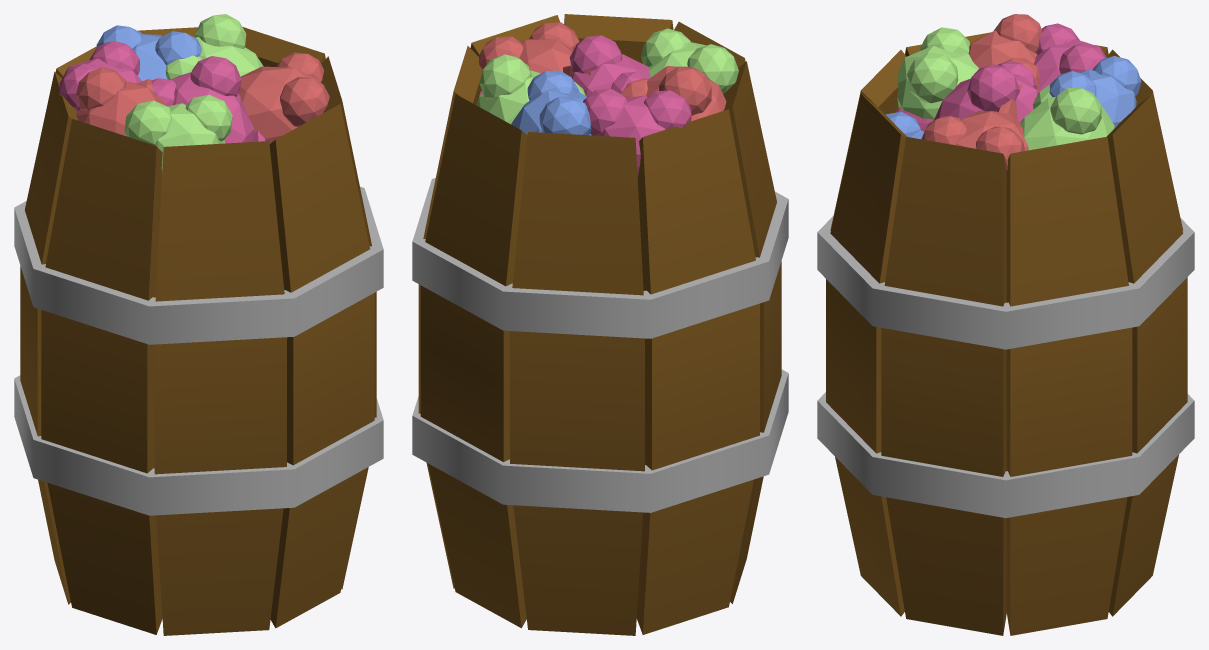
The model's file is BarrelFish.fbx.
3 renders of one model, left to right at view 1: azimuth 30°, elevation 25°; view 2: azimuth 150°, elevation 25°; view 3: azimuth 270°, elevation 25°, orthographic. The views are drawn at different scales.
Visible parts, largest first — view 1: Cylinder001, Cylinder004, Cylinder005, Icosphere.000, Icosphere.007, Icosphere.004, Icosphere.008, Icosphere.002, Icosphere.005, Icosphere.006; view 2: Cylinder001, Cylinder004, Cylinder005, Icosphere.006, Icosphere.005, Icosphere.007, Icosphere.000, Icosphere.004, Icosphere.002, Icosphere.008; view 3: Cylinder001, Cylinder004, Cylinder005, Icosphere.007, Icosphere.002, Icosphere.004, Icosphere.000, Icosphere.005, Icosphere.008, Icosphere.006, Icosphere.003.
Part boxes in pixels (bbox=[...]): Cylinder001: bbox=[20, 27, 376, 635]; Cylinder004: bbox=[14, 186, 383, 344]; Cylinder005: bbox=[14, 375, 383, 515]; Icosphere.000: bbox=[238, 52, 329, 143]; Icosphere.007: bbox=[124, 94, 232, 173]; Icosphere.004: bbox=[151, 56, 254, 143]; Icosphere.008: bbox=[76, 67, 166, 136]; Icosphere.002: bbox=[165, 14, 263, 79]; Icosphere.005: bbox=[96, 25, 201, 81]; Icosphere.006: bbox=[59, 41, 141, 110]; Cylinder001: bbox=[418, 14, 781, 635]; Cylinder004: bbox=[412, 178, 788, 338]; Cylinder005: bbox=[412, 369, 788, 512]; Icosphere.006: bbox=[583, 89, 691, 176]; Icosphere.005: bbox=[511, 70, 591, 135]; Icosphere.007: bbox=[641, 28, 738, 94]; Icosphere.000: bbox=[479, 22, 592, 77]; Icosphere.004: bbox=[569, 35, 650, 96]; Icosphere.002: bbox=[476, 54, 585, 124]; Icosphere.008: bbox=[620, 66, 726, 121]; Cylinder001: bbox=[826, 32, 1187, 635]; Cylinder004: bbox=[817, 216, 1194, 349]; Cylinder005: bbox=[817, 392, 1194, 517]; Icosphere.007: bbox=[897, 27, 978, 119]; Icosphere.002: bbox=[1020, 84, 1114, 150]; Icosphere.004: bbox=[896, 61, 1037, 131]; Icosphere.000: bbox=[921, 84, 1033, 172]; Icosphere.005: bbox=[1049, 56, 1141, 127]; Icosphere.008: bbox=[968, 14, 1041, 91]; Icosphere.006: bbox=[1034, 23, 1106, 93]; Icosphere.003: bbox=[885, 111, 924, 139].
Bounding box in the file's own units: 50.89 × 76.66 × 50.89.
